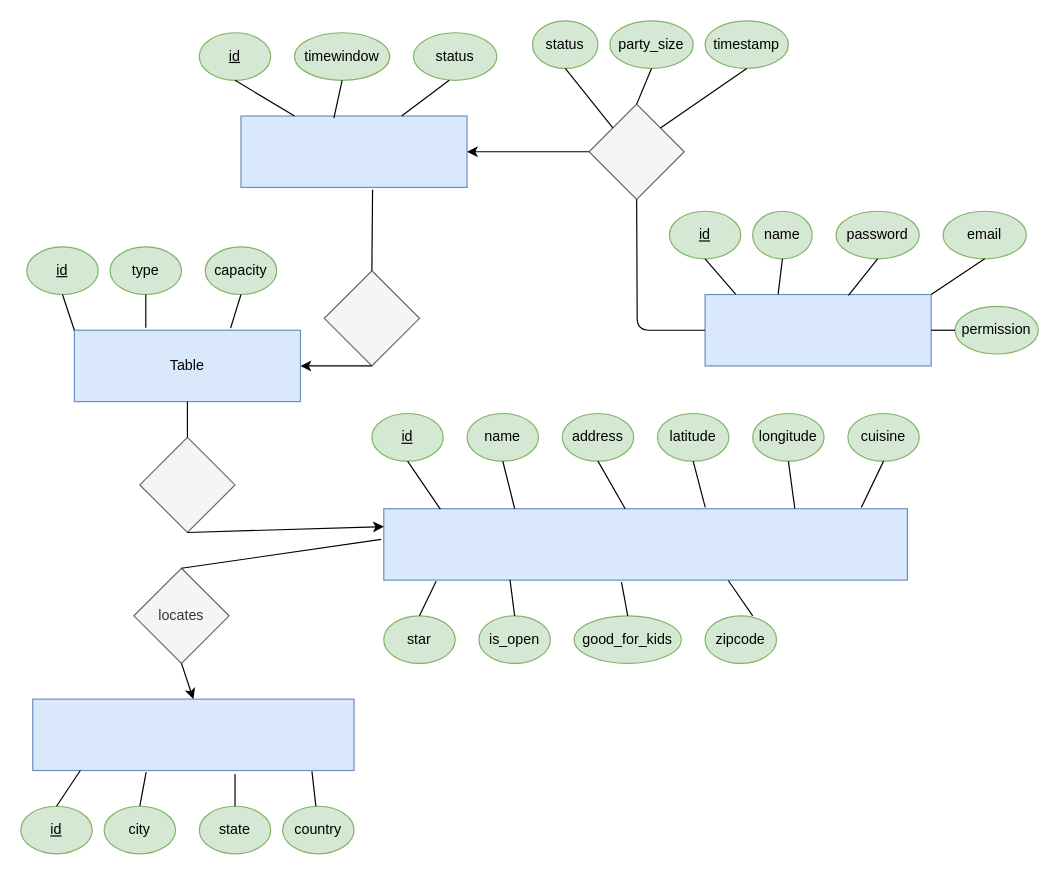
Image size: 1059x875. Some labels were removed from this diagram. The box of each missing label's shape, as (x1, y1, x2, y2) in pixels:
belong to: (139, 436, 235, 533)
books: (588, 103, 684, 199)
generated by: (323, 270, 419, 366)
Location: (32, 698, 354, 771)
Restaurant: (383, 508, 907, 580)
TableAvailability: (240, 115, 467, 187)
User: (704, 293, 931, 366)
